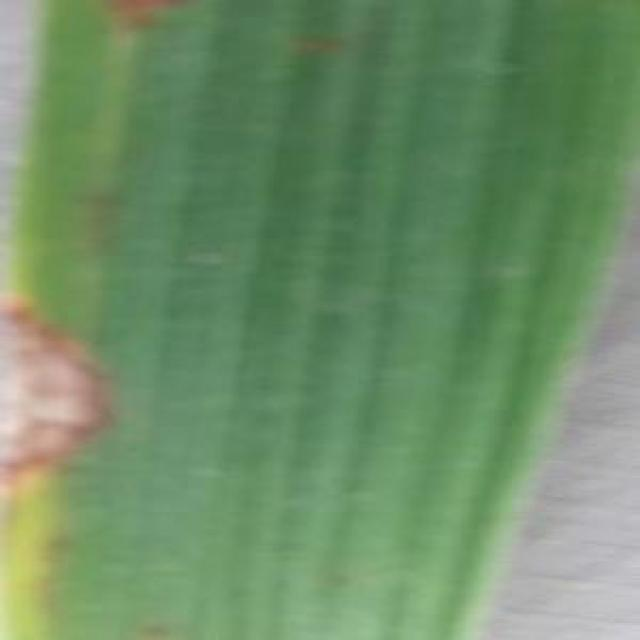Blast: (2, 318, 88, 465)
